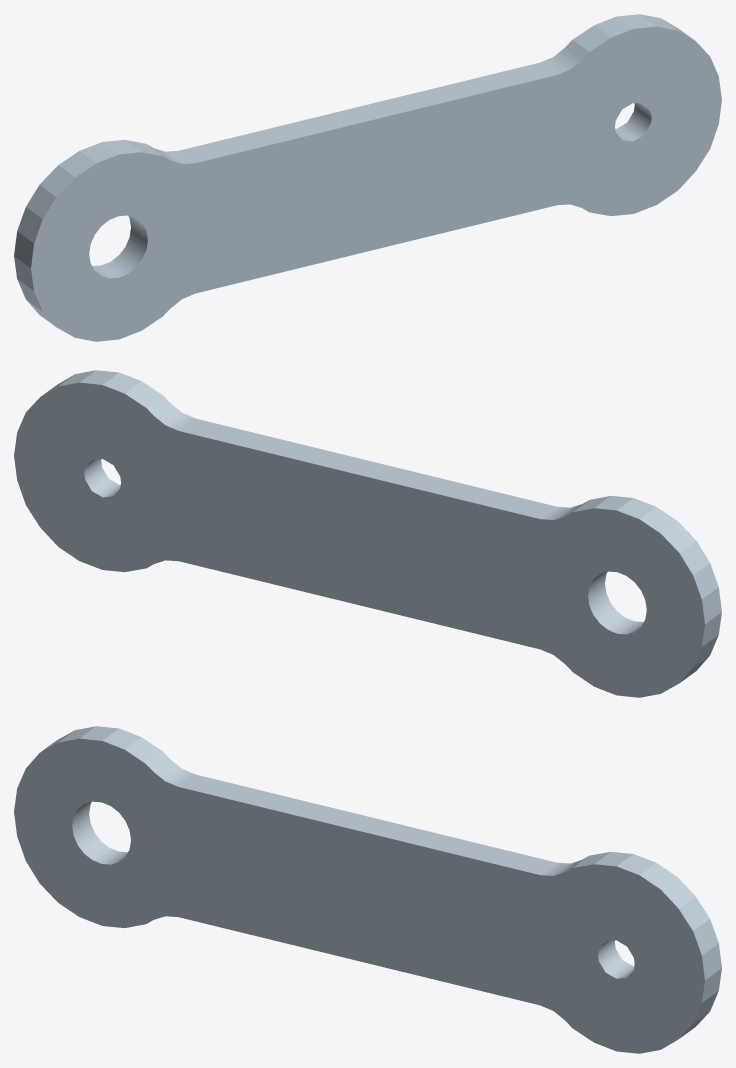
The model's file is prt0003.obj.
3 renders of one model, top to bottom at view 1: azimuth 30°, elevation 25°; view 2: azimuth 150°, elevation 25°; view 3: azimuth 330°, elevation 25°, orthographic.
Parts seen in each view (by area): view 1: 1; view 2: 1; view 3: 1.
Boxes of the visible parts, x1,y1,x2,y2 form: 1: (14,14,721,341); 1: (14,370,721,697); 1: (14,726,721,1053).
Bounding box in the file's own units: 46.99 × 12.02 × 2.
